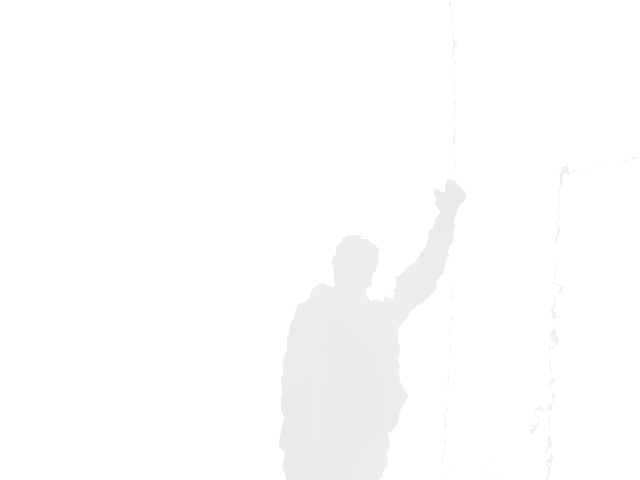hand: (432, 179, 468, 216)
head: (333, 234, 380, 295)
person: (278, 178, 468, 480)
